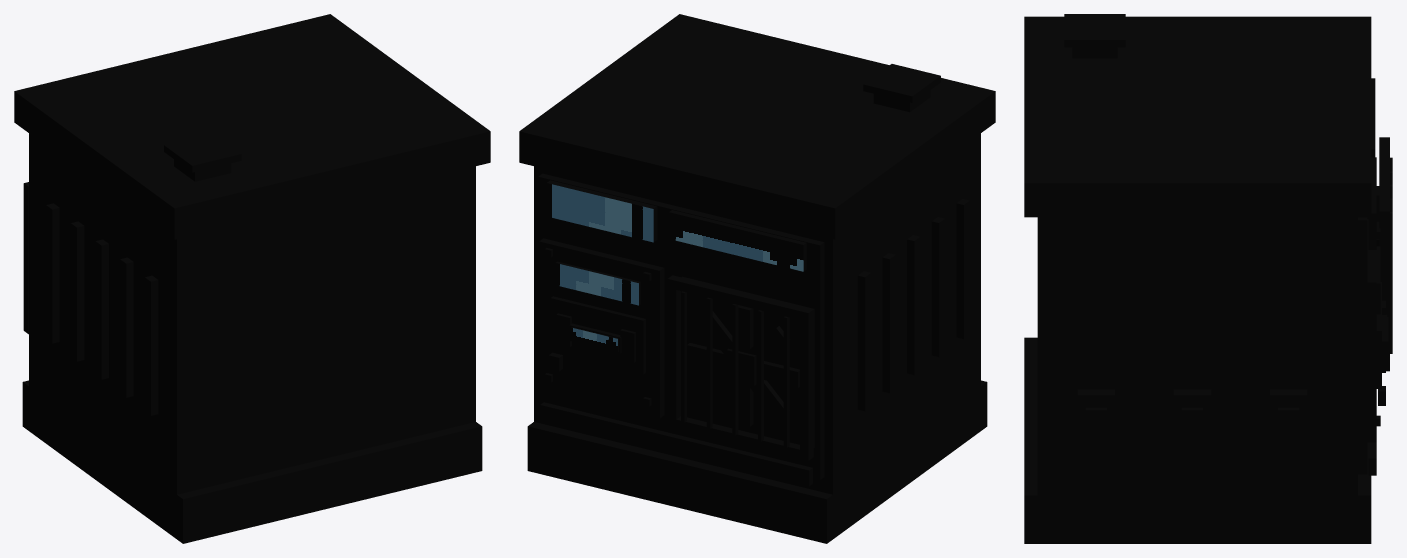
Rendered from lab_power_generator.obj.
3 views of the same model, side by side, from view 1: azimuth 30°, elevation 25°; view 2: azimuth 150°, elevation 25°; view 3: azimuth 270°, elevation 25° (orthographic). The views are drawn at different scales.
Size of the model in its own units: 0.8312 by 0.875 by 0.7547.
